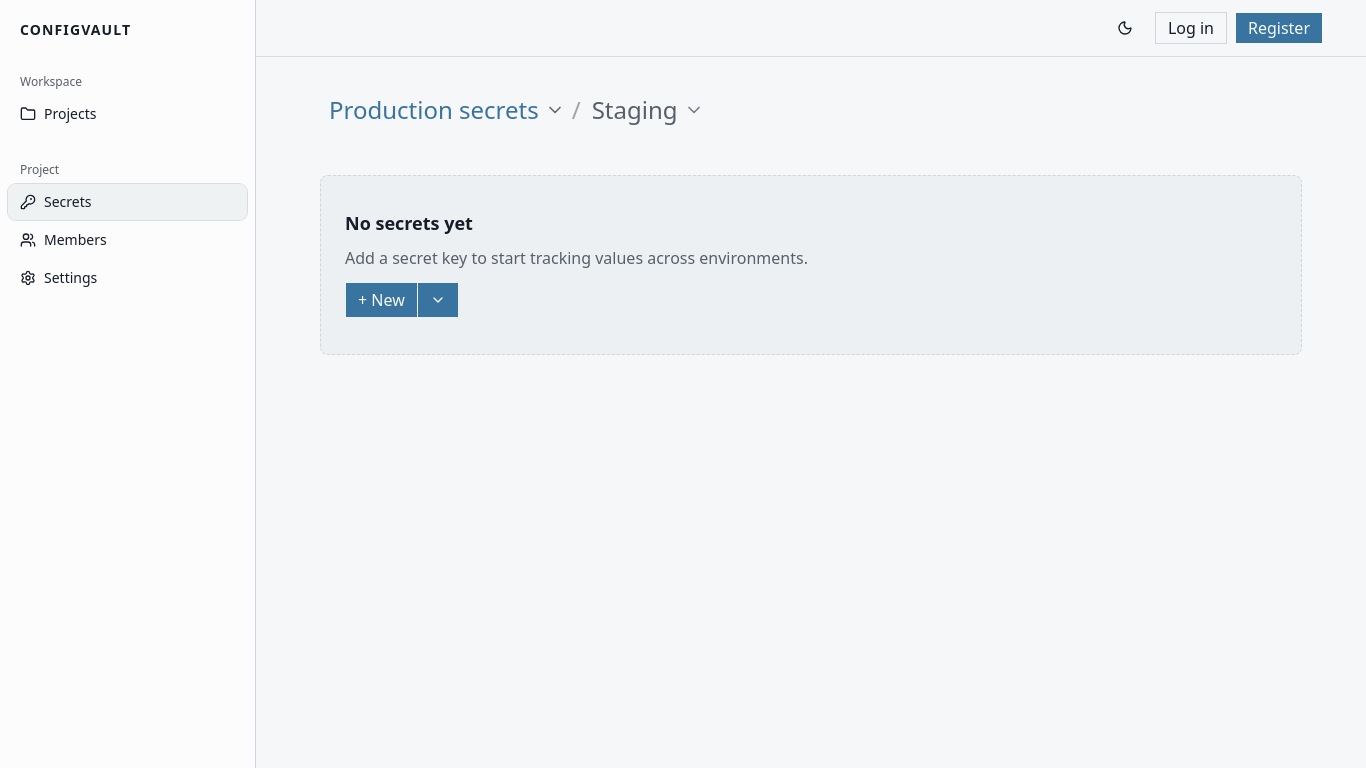
Test: ProjectDetailPage › filters projects and keeps the current section when switching projects
Click the button named "Project" at (445, 110), box [320,89,570,131]
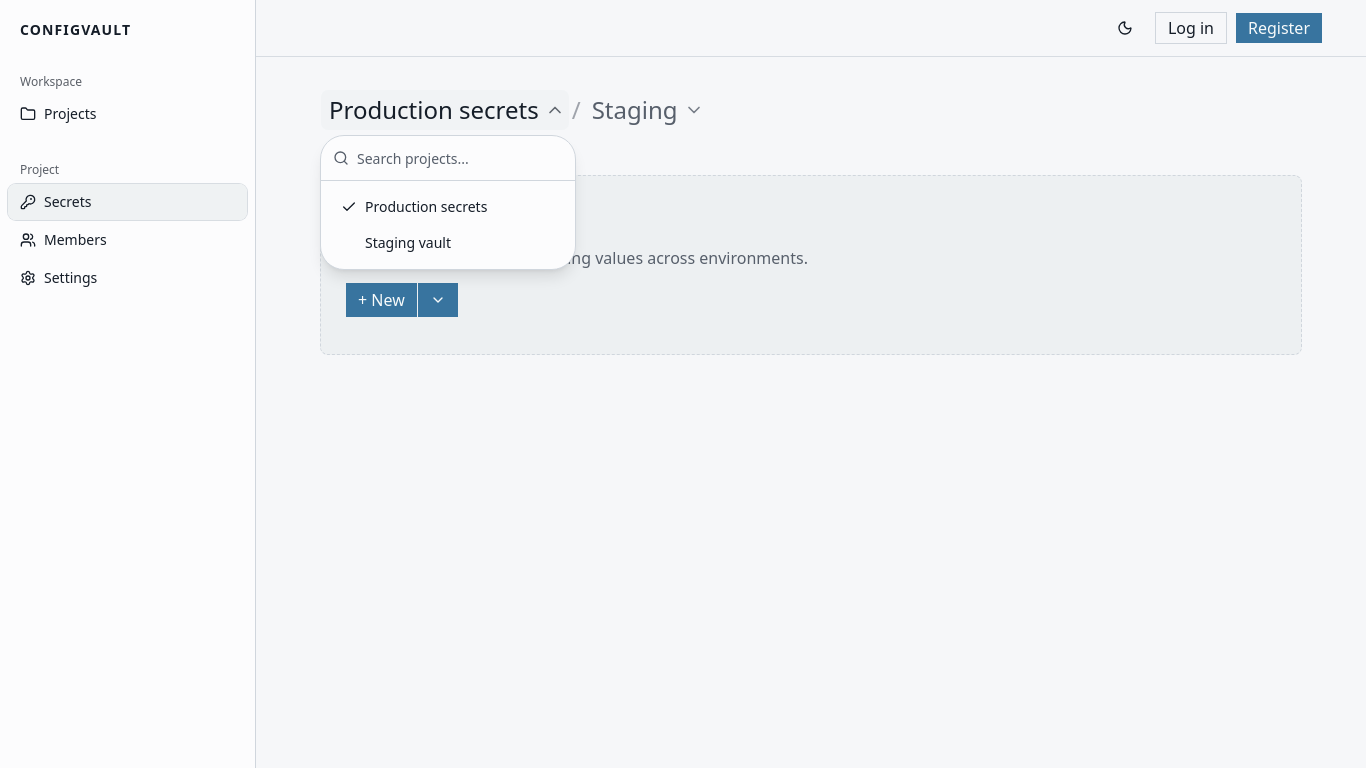
Type "vault" into the dropdown with placeholder "Search projects..." at (460, 158), box [357,136,563,180]
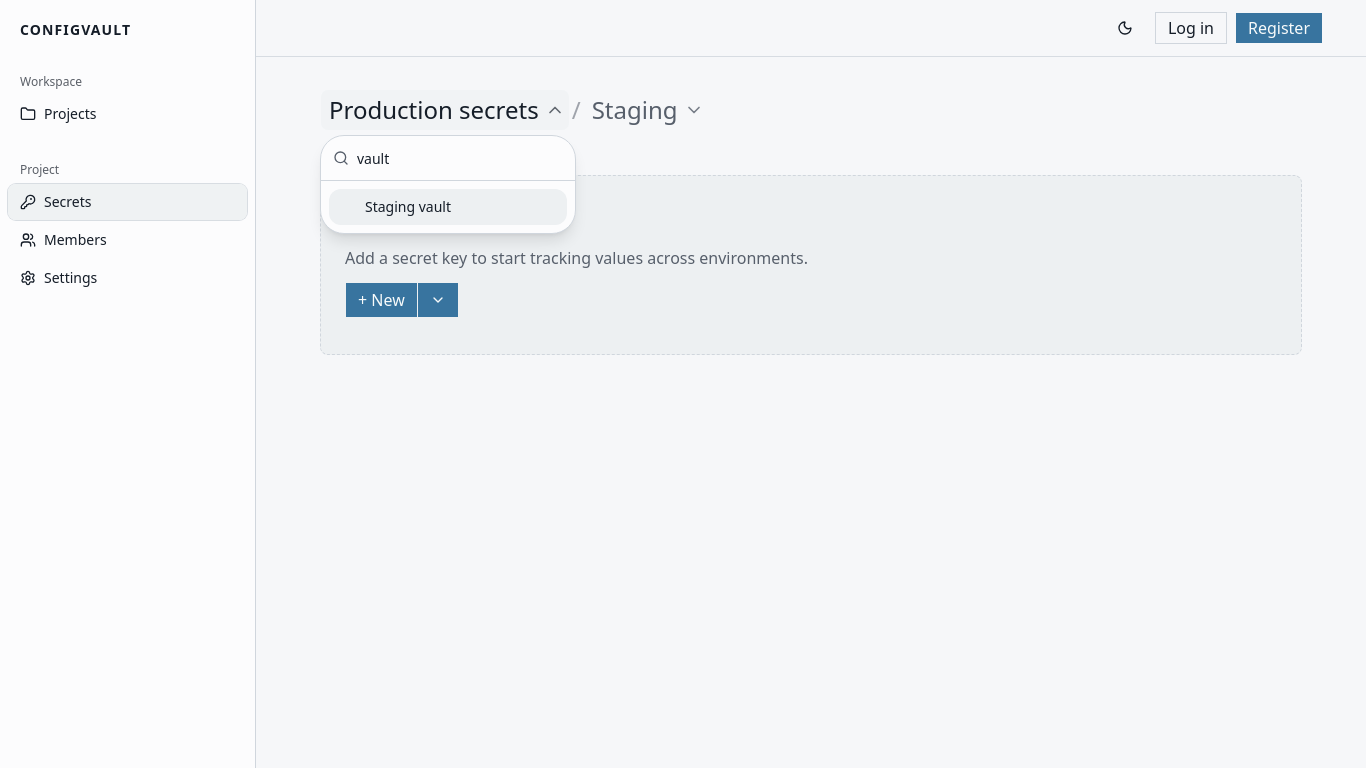
Click the option "Staging vault" at (448, 207), box [329,189,567,225]
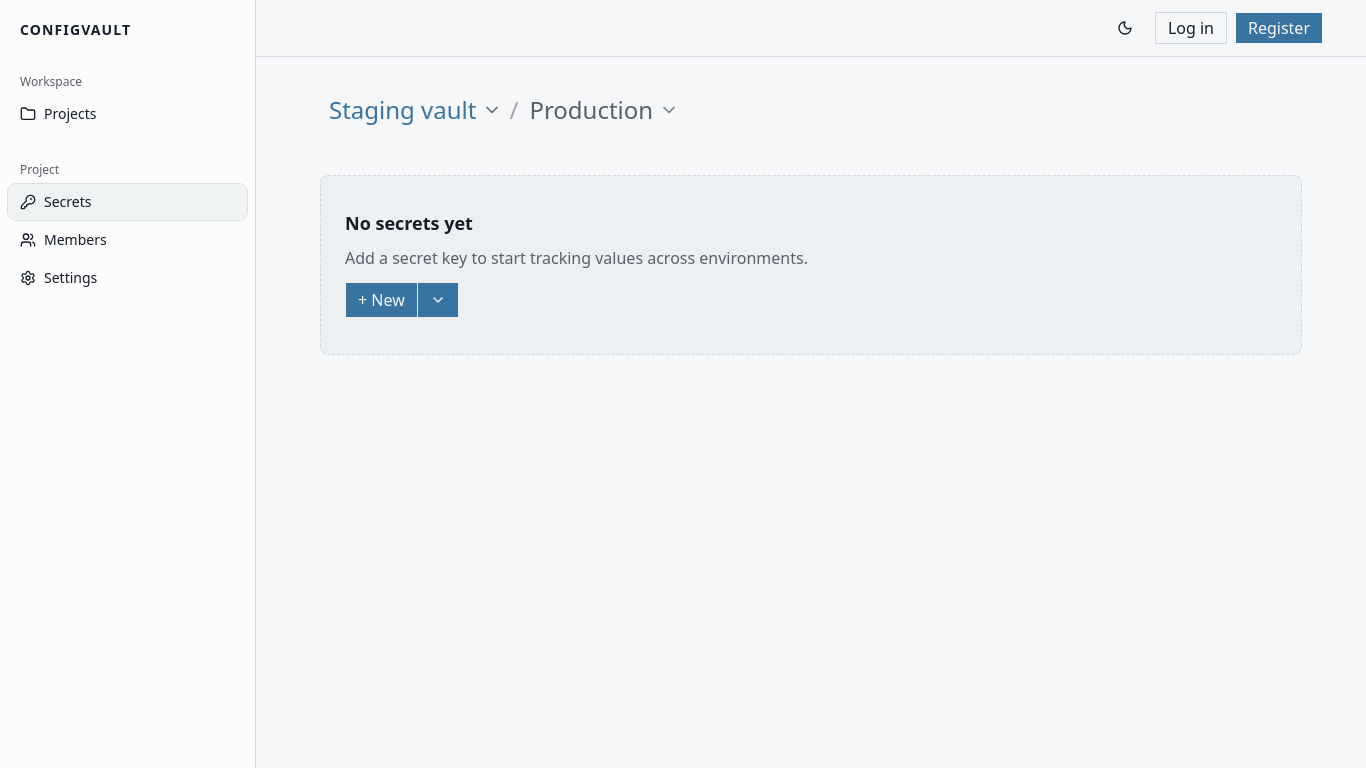
Check: the button named "Project" reads "Staging vault", box [320,89,507,131]
Check: the button named "Environment" reads "Production", box [520,89,684,131]
